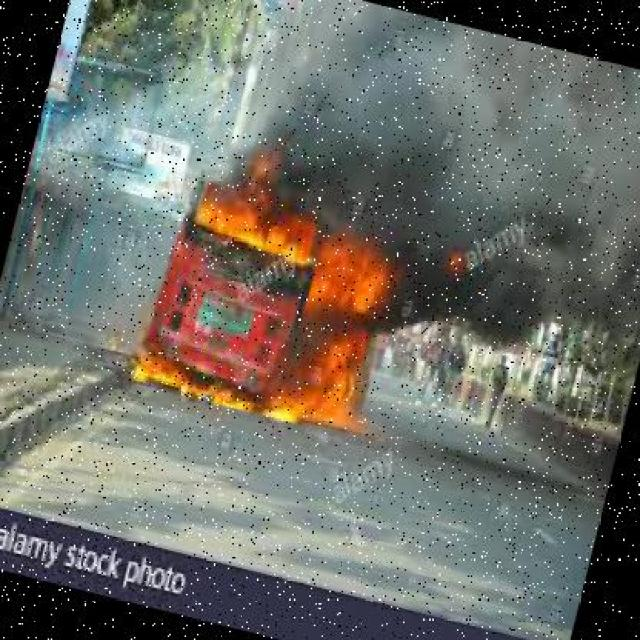fire: (132, 134, 428, 438)
